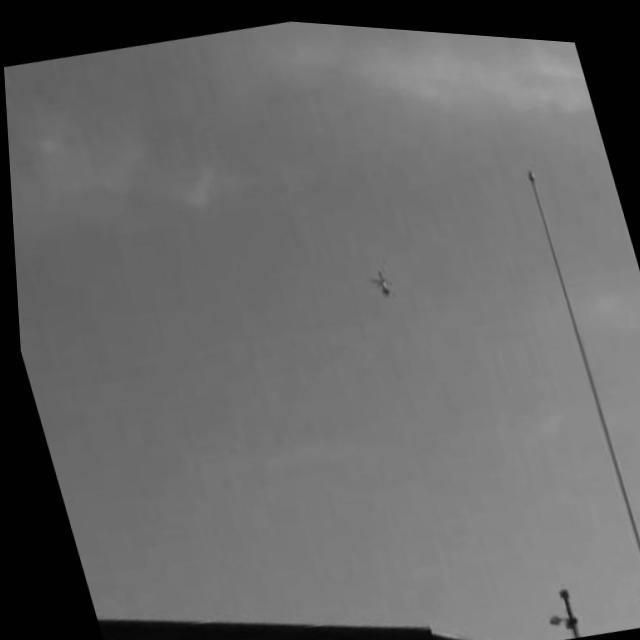helikopter: (362, 258, 396, 297)
